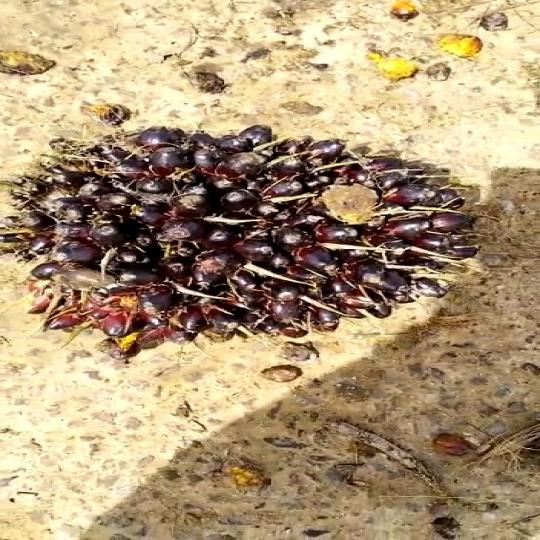mentah: (0, 115, 493, 351)
